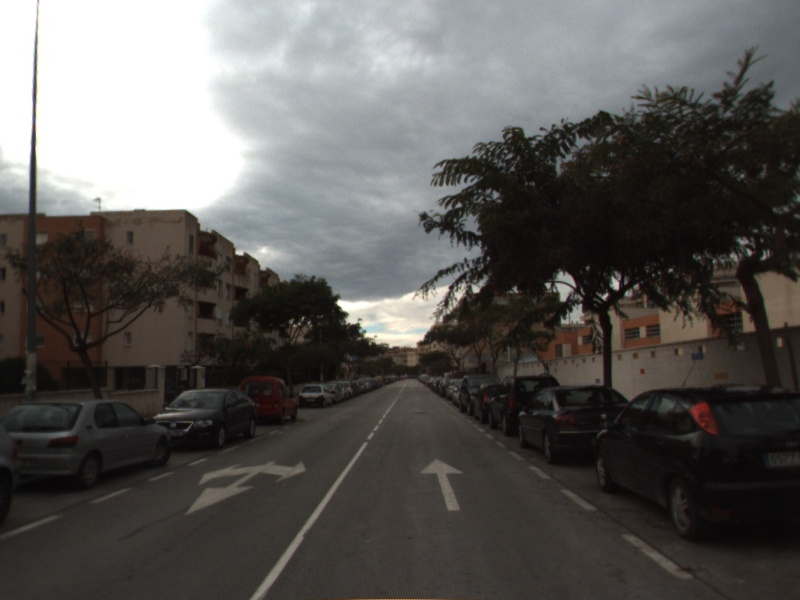STRAIGHT: (418, 456, 465, 512)
